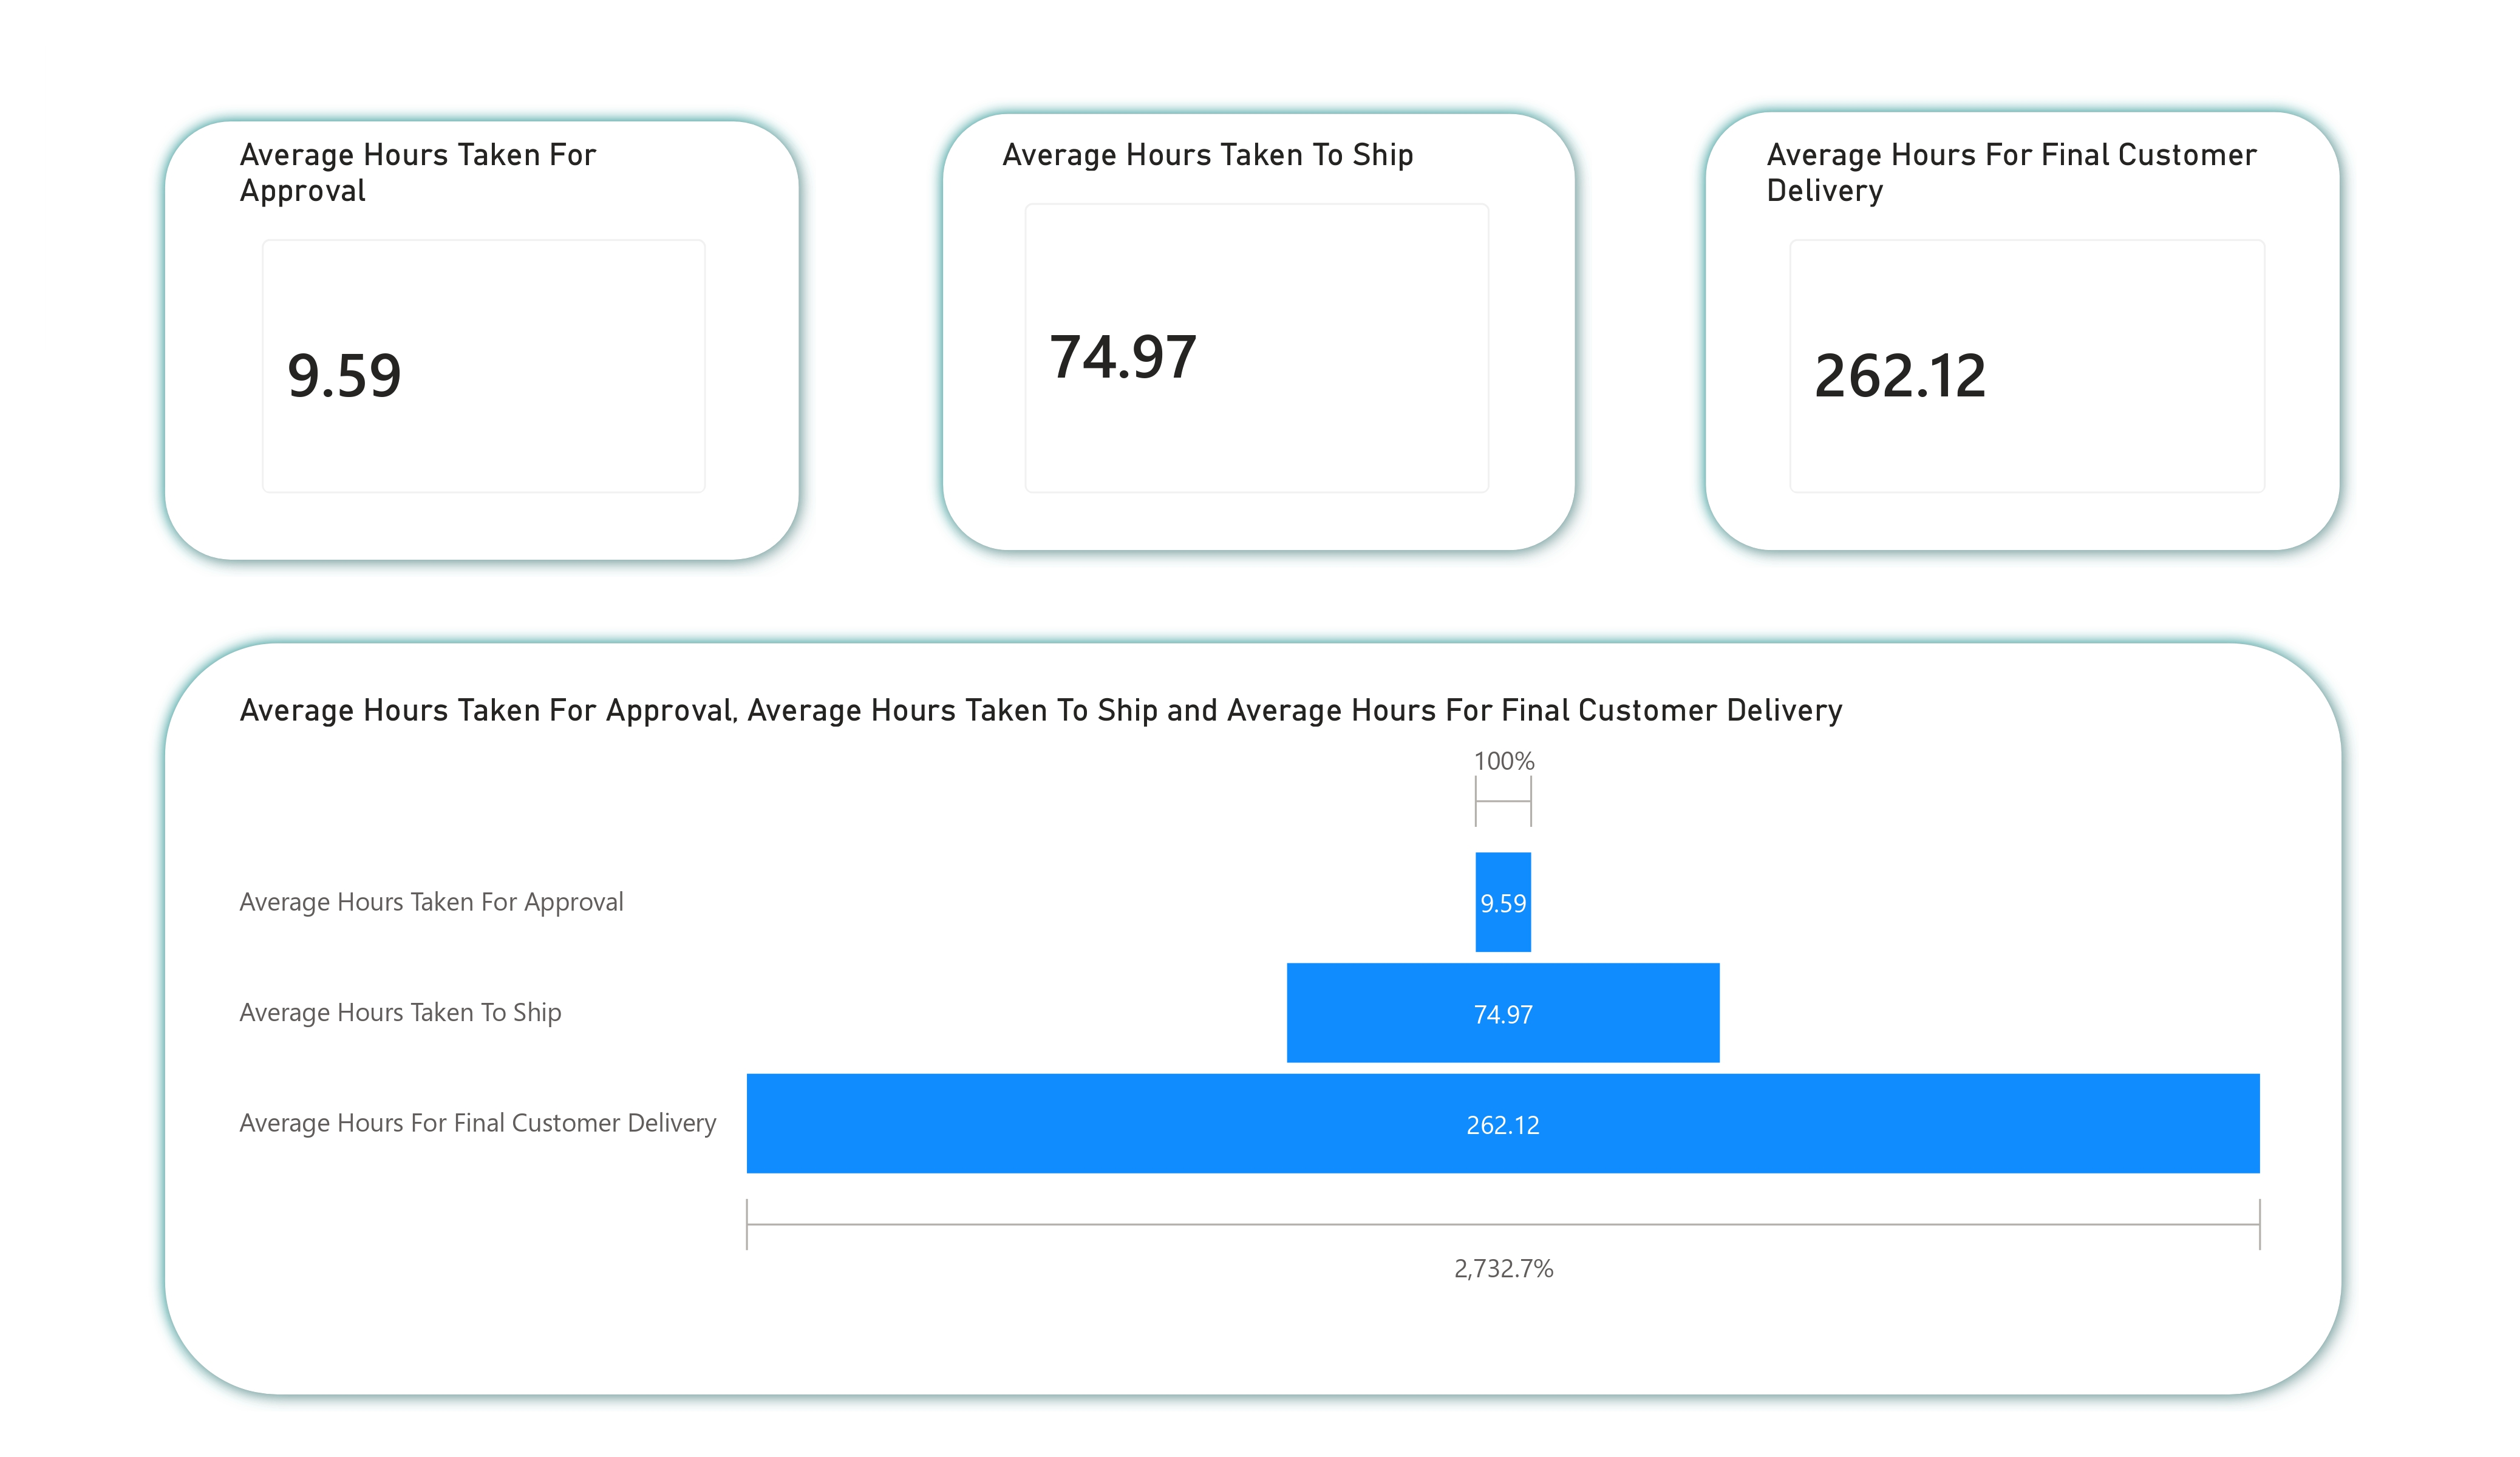

What the dashboard file says about the page in this screenshot:
{"tool":"powerbi","page":{"name":"BR-12","canvas":[1280,720],"ordinal":11},"visuals":[{"type":"shape","box":[53.6,306.4,1164.5,413.5],"z":0,"group":"g1"},{"type":"shape","box":[865.6,25.7,352.5,249.6],"z":1000},{"type":"shape","box":[463.9,26.8,351.4,248.5],"z":2000},{"type":"shape","box":[53.6,31.1,352.5,248.5],"z":3000},{"type":"cardVisual","title":"Average Hours Taken For Approval","fields":{"Data":["measure_table.br12_avg_hours_approve"]},"box":[97.5,47.1,267.8,206.8],"z":4000},{"type":"cardVisual","title":"Average Hours Taken To Ship","fields":{"Data":["measure_table.br12_avg_hours_ship"]},"box":[499.2,47.1,278.5,206.8],"z":5000},{"type":"cardVisual","title":"Average Hours For Final Customer Delivery","fields":{"Data":["measure_table.br12_avg_hours_delivery"]},"box":[902,47.1,285,206.8],"z":6000},{"type":"funnel","fields":{"Y":["measure_table.br12_avg_hours_approve","measure_table.br12_avg_hours_ship","measure_table.br12_avg_hours_delivery"]},"box":[96.5,340.7,1079.9,320.3],"z":7000,"group":"g1"},{"type":"group","id":"g1","title":"Group 1","box":[53.6,306.4,1164.5,413.5],"z":7001}]}

Visuals, with their boxes on the page's 1280x720 design canvas (x1, y1, x2, y2). These are canvas units, not pixel positions in the 2520x1457 screenshot, which may show the page scaled, cropped or inside an application window:
shape: [x1=54, y1=306, x2=1218, y2=720]
shape: [x1=866, y1=26, x2=1218, y2=275]
shape: [x1=464, y1=27, x2=815, y2=275]
shape: [x1=54, y1=31, x2=406, y2=280]
"Average Hours Taken For Approval" cardVisual: [x1=98, y1=47, x2=365, y2=254]
"Average Hours Taken To Ship" cardVisual: [x1=499, y1=47, x2=778, y2=254]
"Average Hours For Final Customer Delivery" cardVisual: [x1=902, y1=47, x2=1187, y2=254]
funnel - measure_table.br12_avg_hours_approve x measure_table.br12_avg_hours_ship: [x1=96, y1=341, x2=1176, y2=661]
"Group 1" group: [x1=54, y1=306, x2=1218, y2=720]
